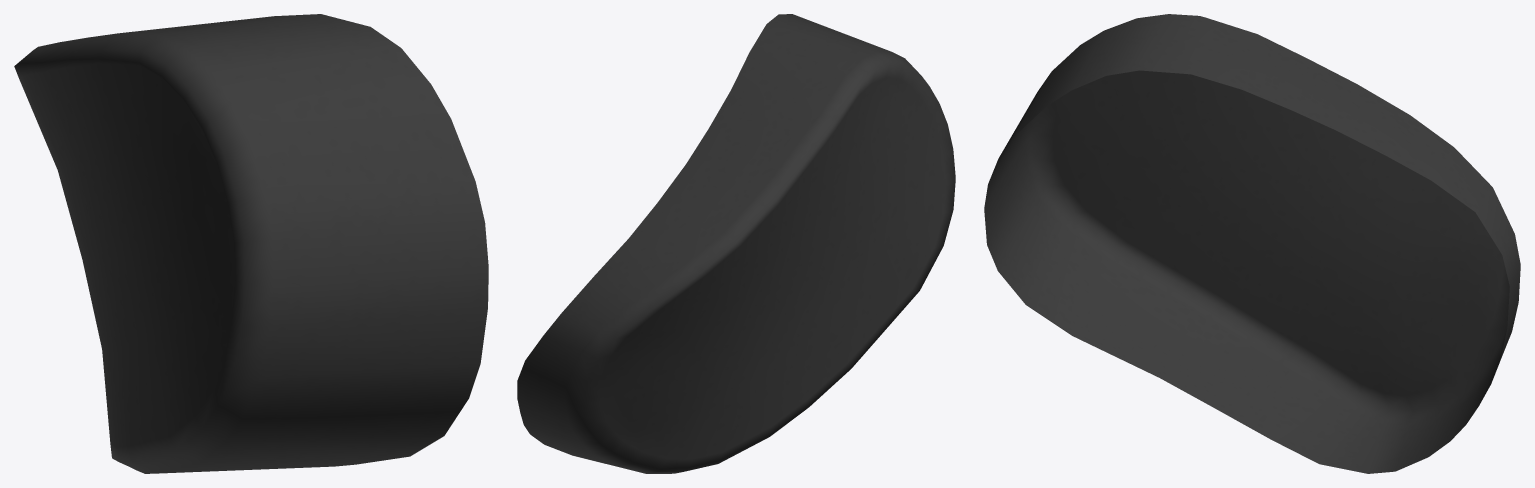
The model's file is oculus_quest_controller_right_grip.obj.
The picture shows the model from 3 angles, left to right: view 1: azimuth 30°, elevation 25°; view 2: azimuth 150°, elevation 25°; view 3: azimuth 270°, elevation 25°; orthographic projection. The views are drawn at different scales.
Size of the model in its own units: 0.0126 by 0.0192 by 0.0249.
